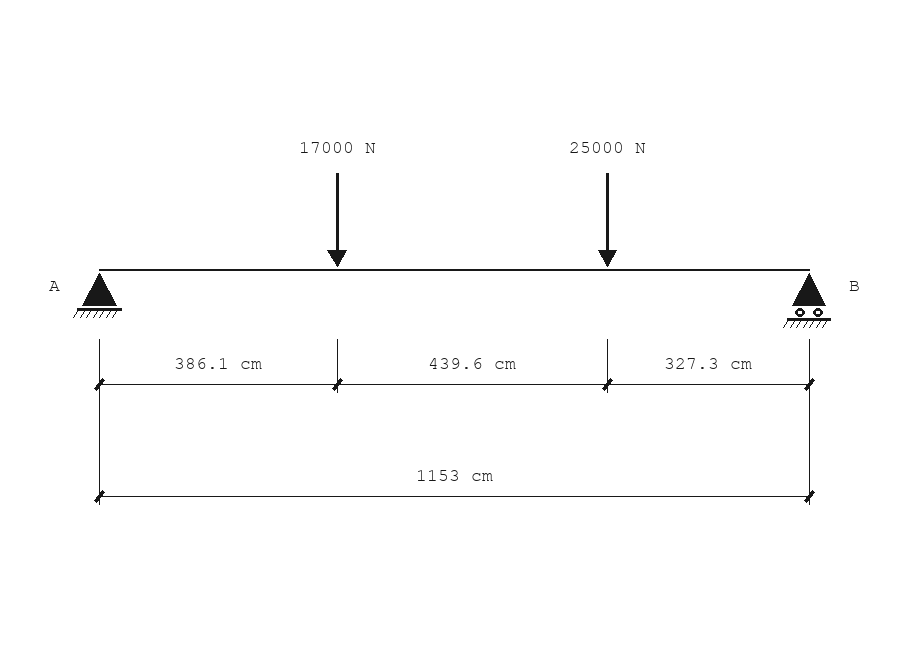pin_support: (73, 273, 122, 318)
point_load: (327, 173, 347, 267), (598, 173, 617, 267)
roller_support: (783, 273, 831, 328)
